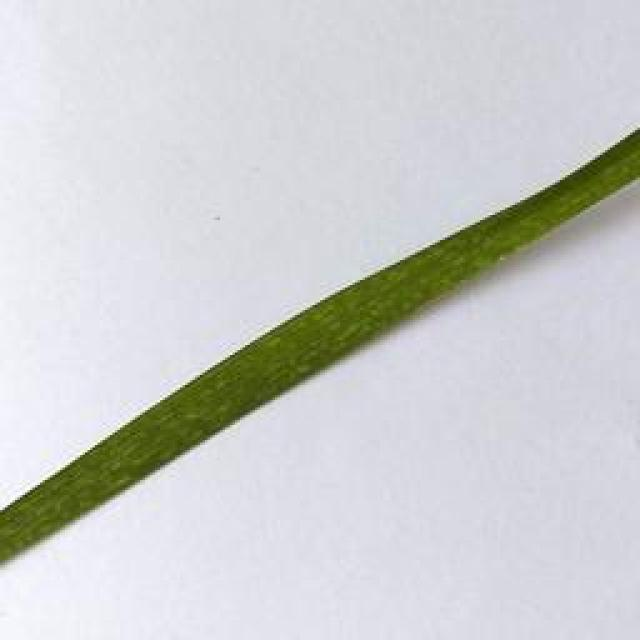Healthy-Plant: (0, 126, 640, 572)
